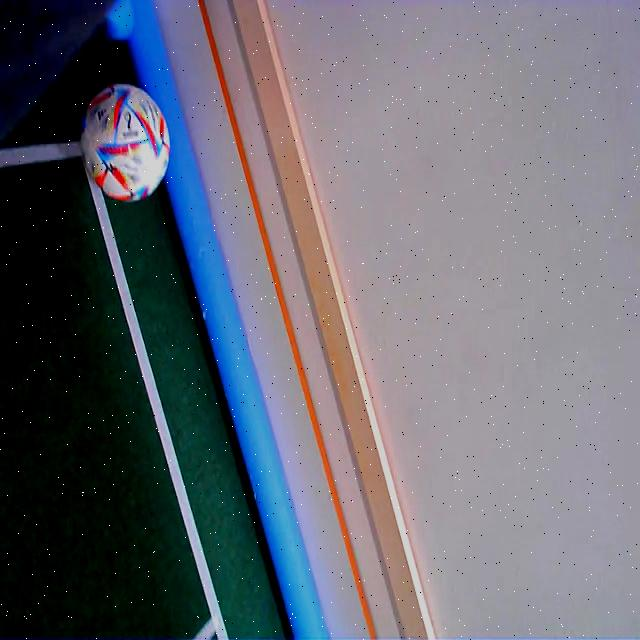ball: (81, 82, 168, 202)
